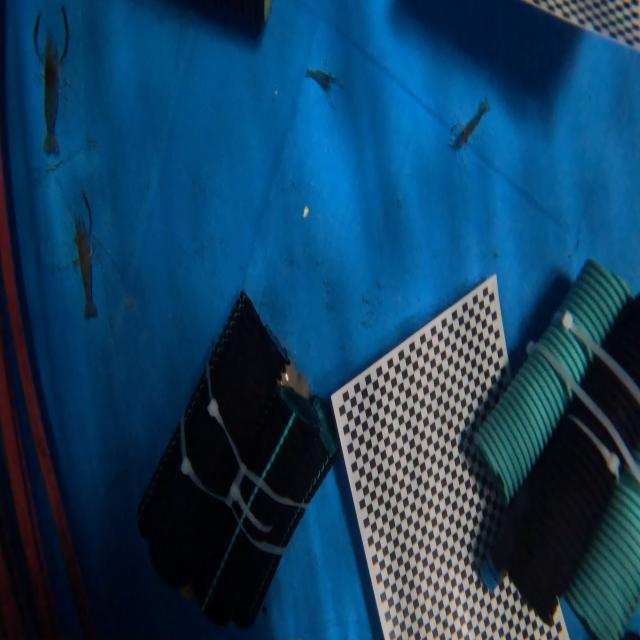prawn: (28, 2, 70, 154), (64, 193, 98, 320), (451, 99, 489, 151), (305, 70, 347, 109)
